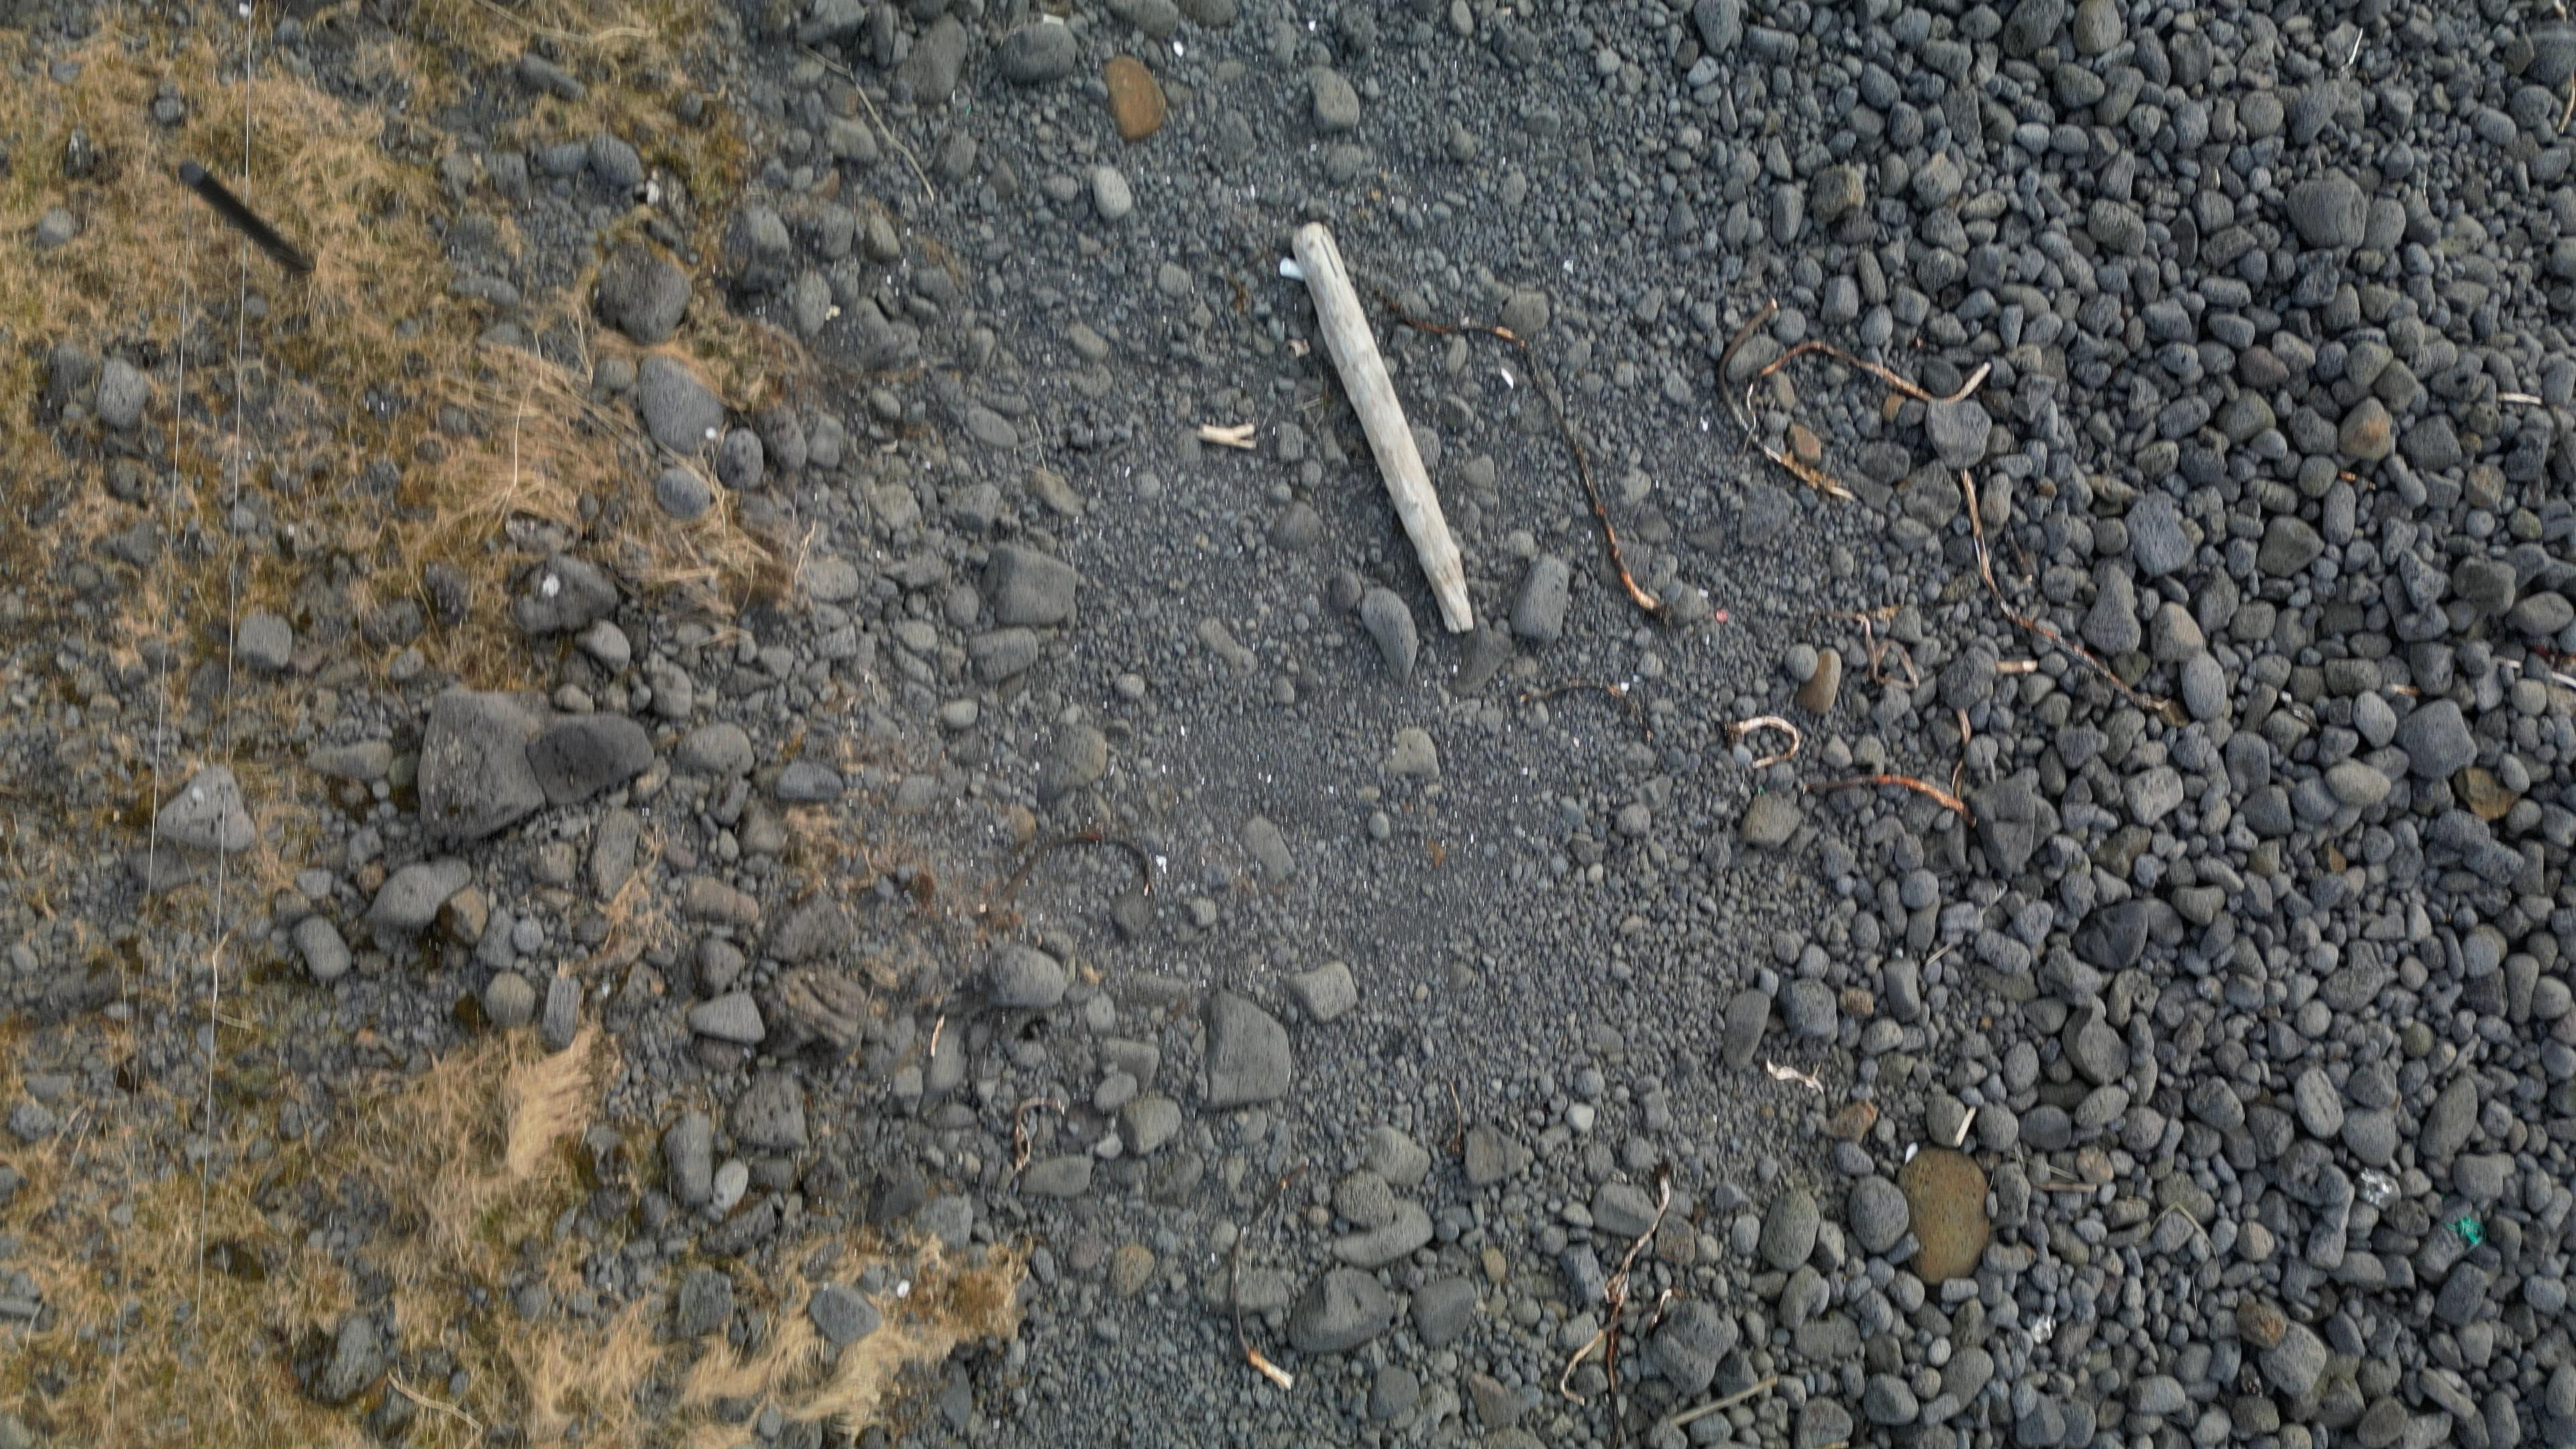trash: (1278, 256, 1303, 282)
